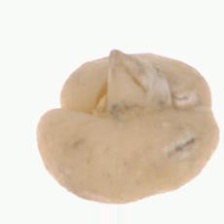L1: (91, 51, 177, 116)
L2: (37, 49, 220, 204)
